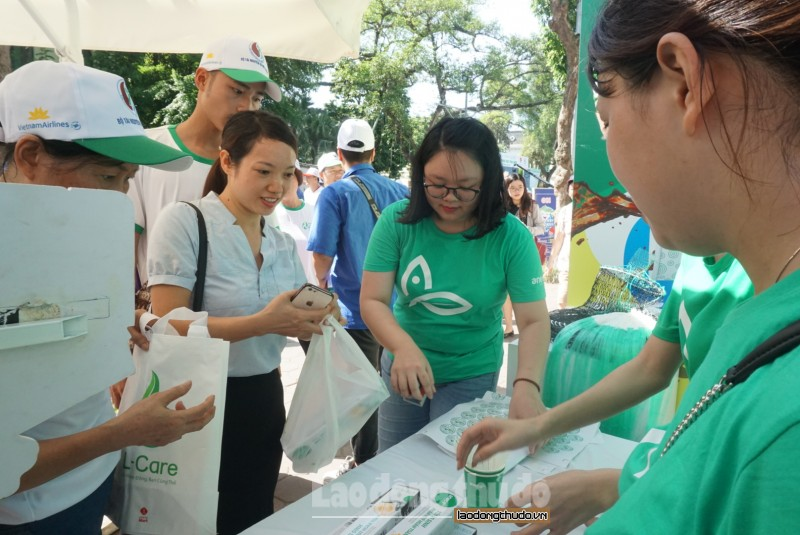plastic bag: (277, 319, 389, 473), (543, 307, 665, 440)
